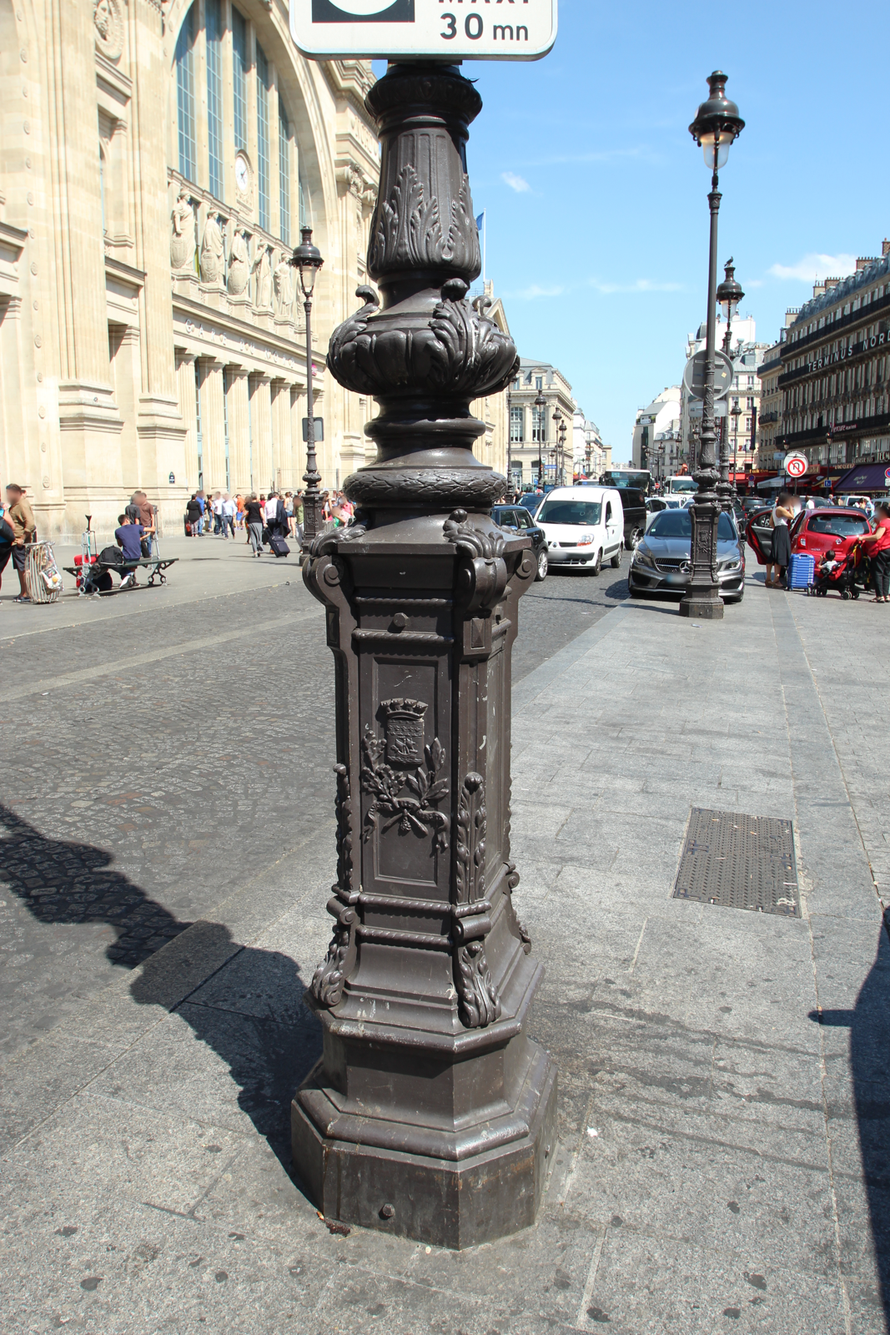fachada: (8, 4, 417, 551), (755, 305, 890, 501), (480, 359, 609, 496)
poste: (321, 63, 580, 1247), (680, 50, 759, 634)
